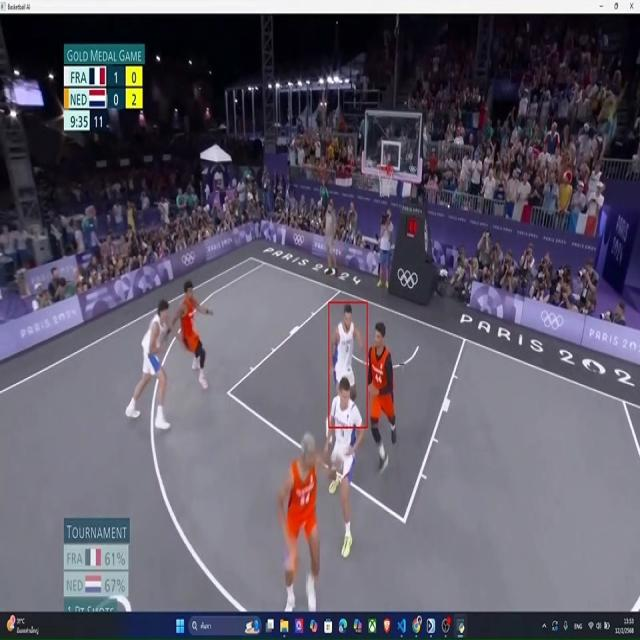hoop: (376, 160, 395, 200)
